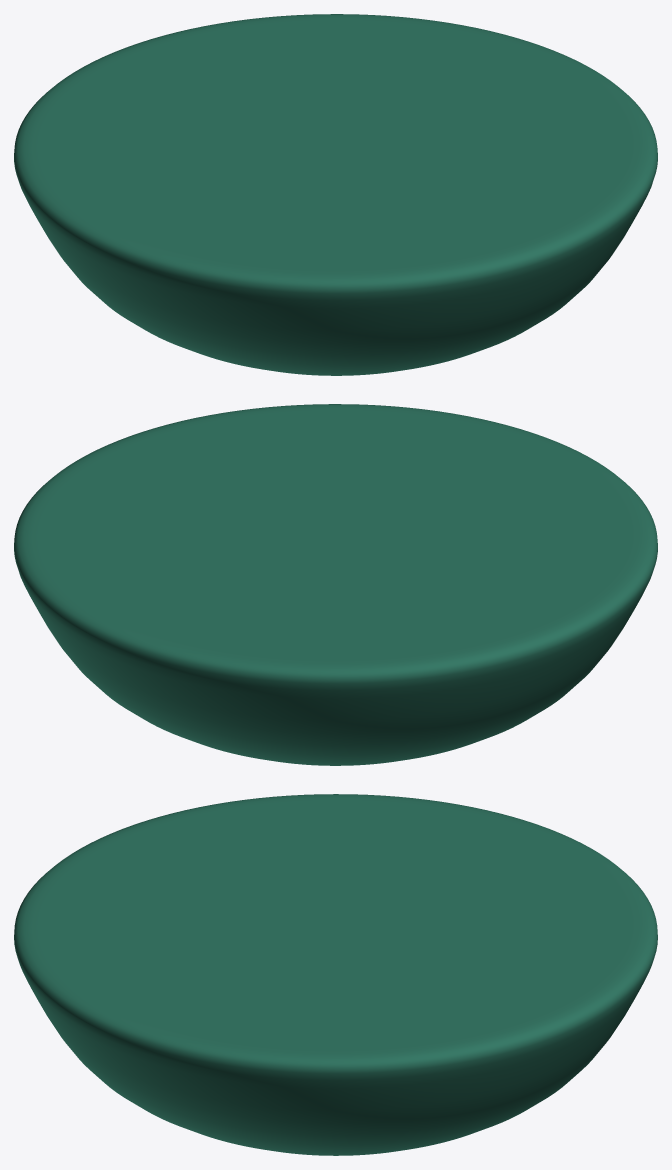
The model's file is sea.fbx.
3 views of the same model, one above another, from view 1: azimuth 30°, elevation 25°; view 2: azimuth 150°, elevation 25°; view 3: azimuth 270°, elevation 25° (orthographic).
Visible parts, largest first — view 1: Cube.001; view 2: Cube.001; view 3: Cube.001.
Boxes of the visible parts, x1,y1,x2,y2 form: Cube.001: (14,14,657,375); Cube.001: (14,404,657,765); Cube.001: (14,794,657,1155).
Bounding box in the file's own units: 3754 × 1196 × 3754.
